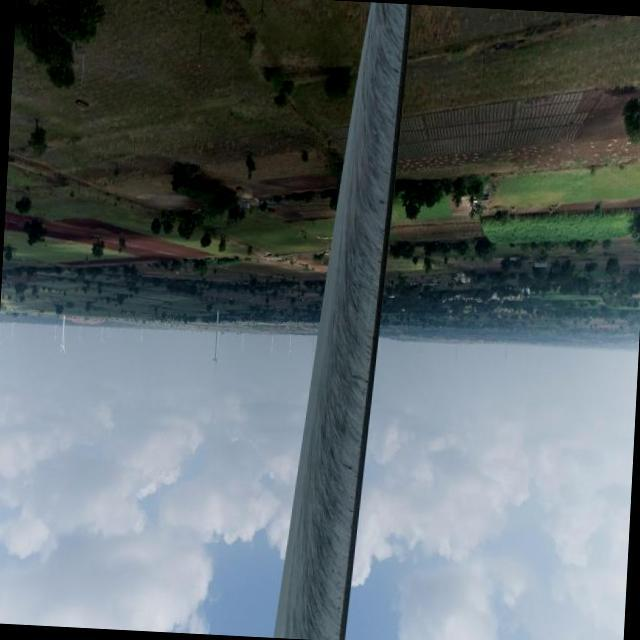Dirt: (274, 2, 411, 640)
Pin Hole: (376, 196, 387, 208)
